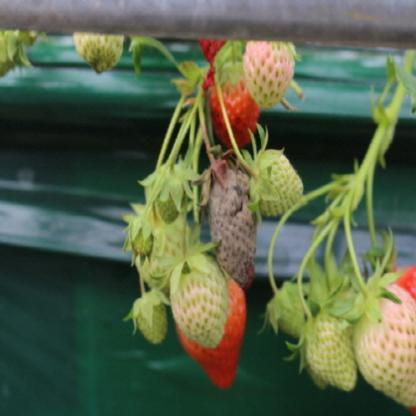Strawberry_Gray_Mold: (191, 149, 258, 290)
